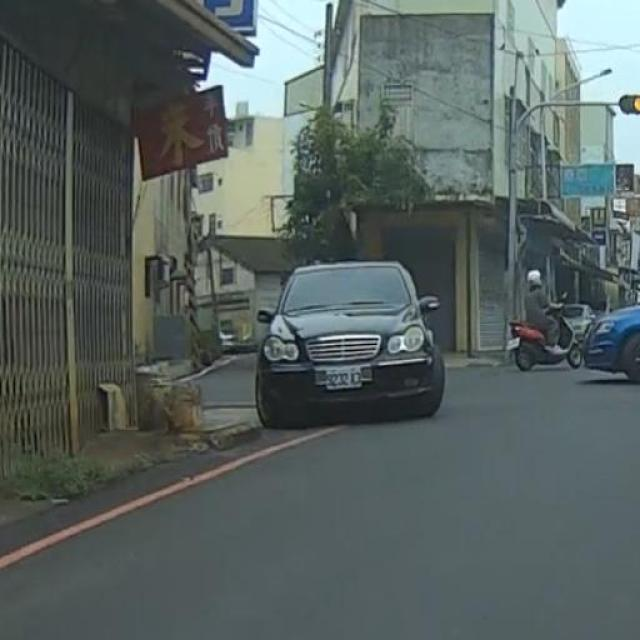illegalparking: (255, 261, 444, 426)
